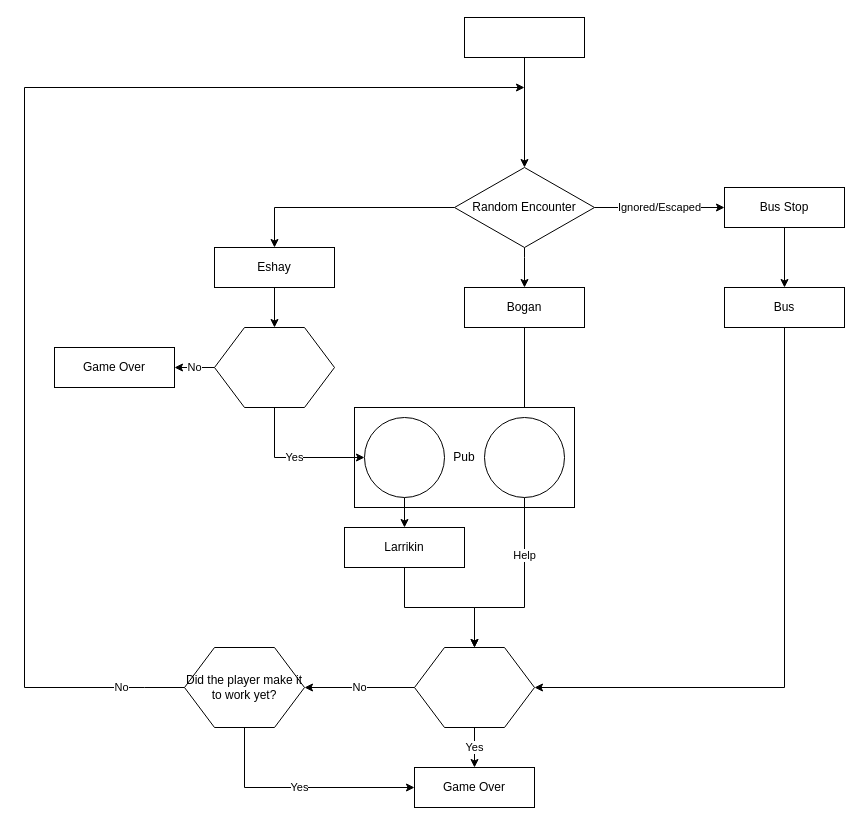
Image size: 862x825. Some labels were removed from this diagram. Here are the shapes that lost their labels. From the top down, the centre of each, then its label:
point (524, 37): Start
point (274, 367): Did the player make it to the pub?
point (404, 457): 50/50 of Larrikin in Pub
point (524, 457): 50/50 Delay or help
point (474, 687): Has Time run out?
